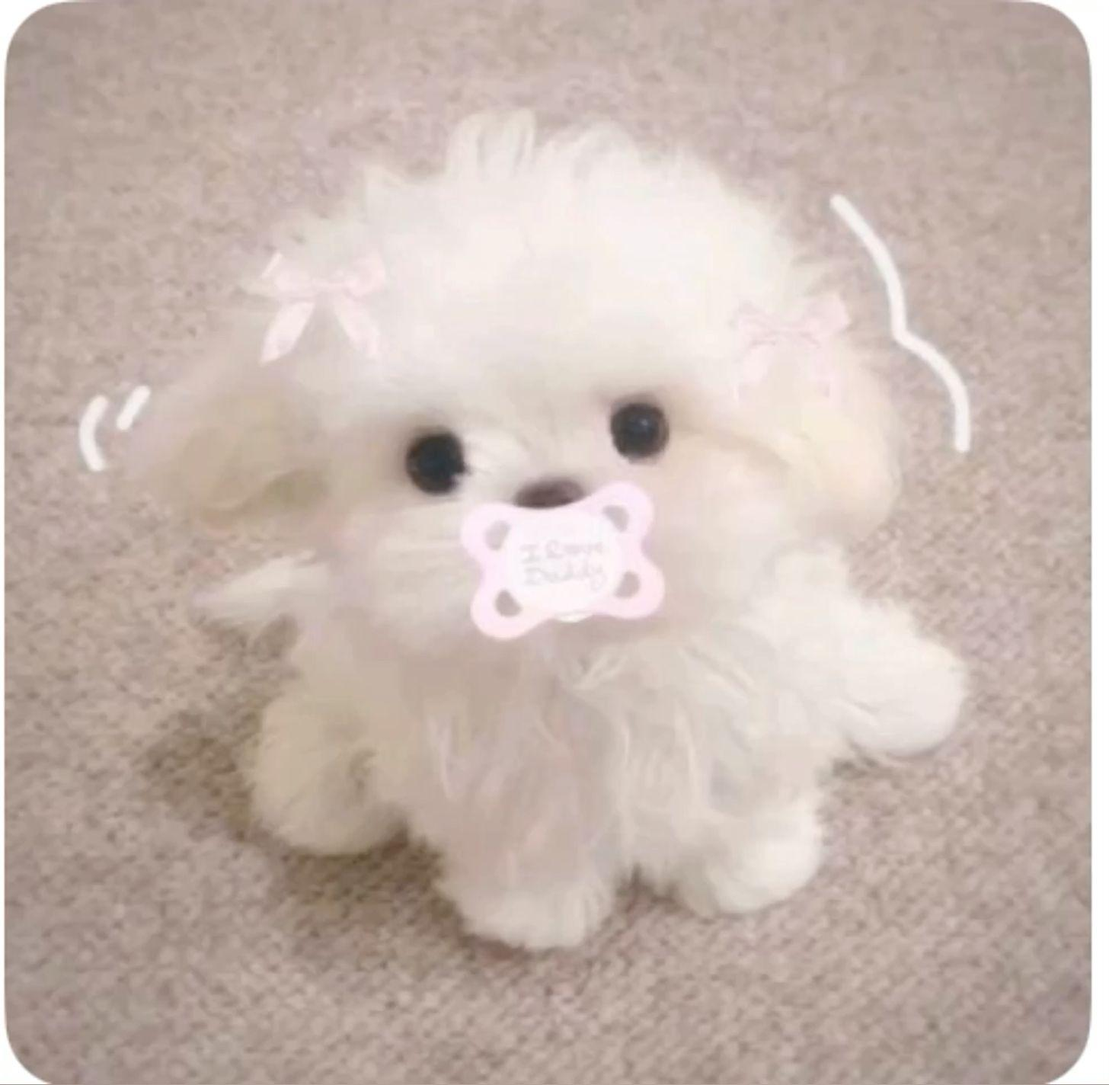puppy-dog: (152, 106, 977, 964)
